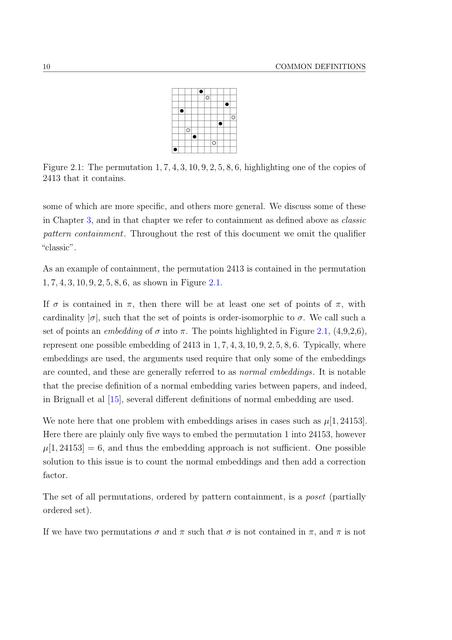box: (170, 86, 240, 156)
